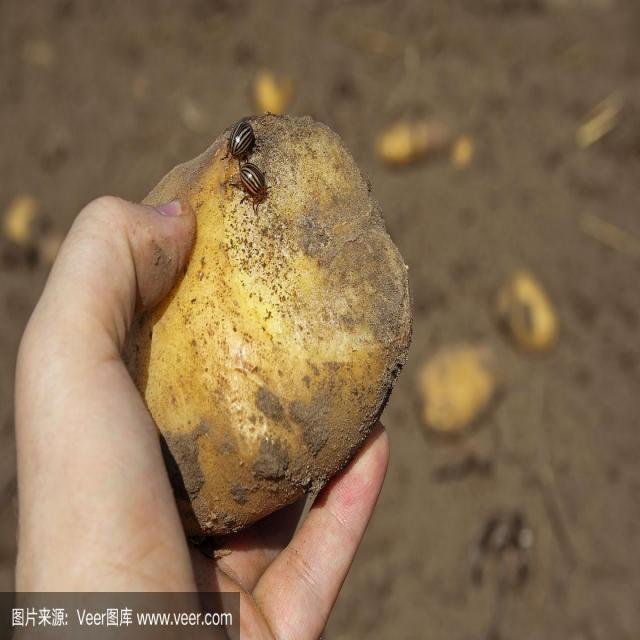ShuCaiHuaBanChong-Grown-: (232, 157, 264, 199), (227, 114, 250, 156)
